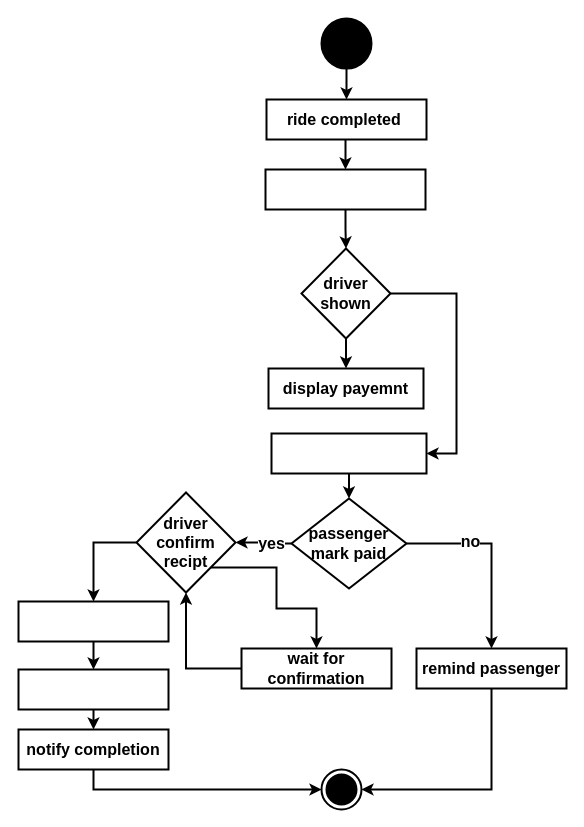
This 584x827 diagram has some shape labels left out. The centre of each missing label's shape, as x and y in pixels:
"record payment confirmed" belongs at point 93,621.
"show payment option" belongs at point 345,189.
"update status" belongs at point 93,689.
"wait for payment initaiation" belongs at point 348,453.
